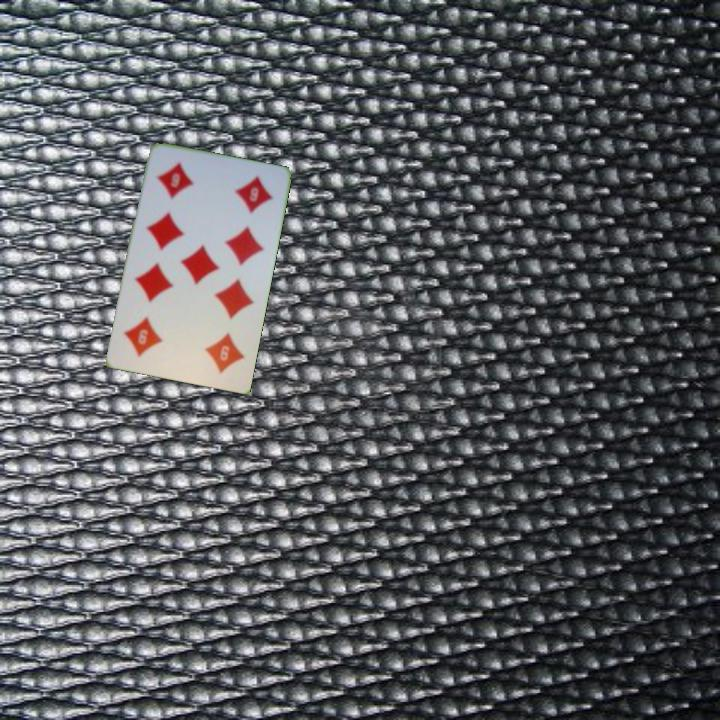d_9.png: (176, 314, 252, 383), (145, 152, 221, 220)
